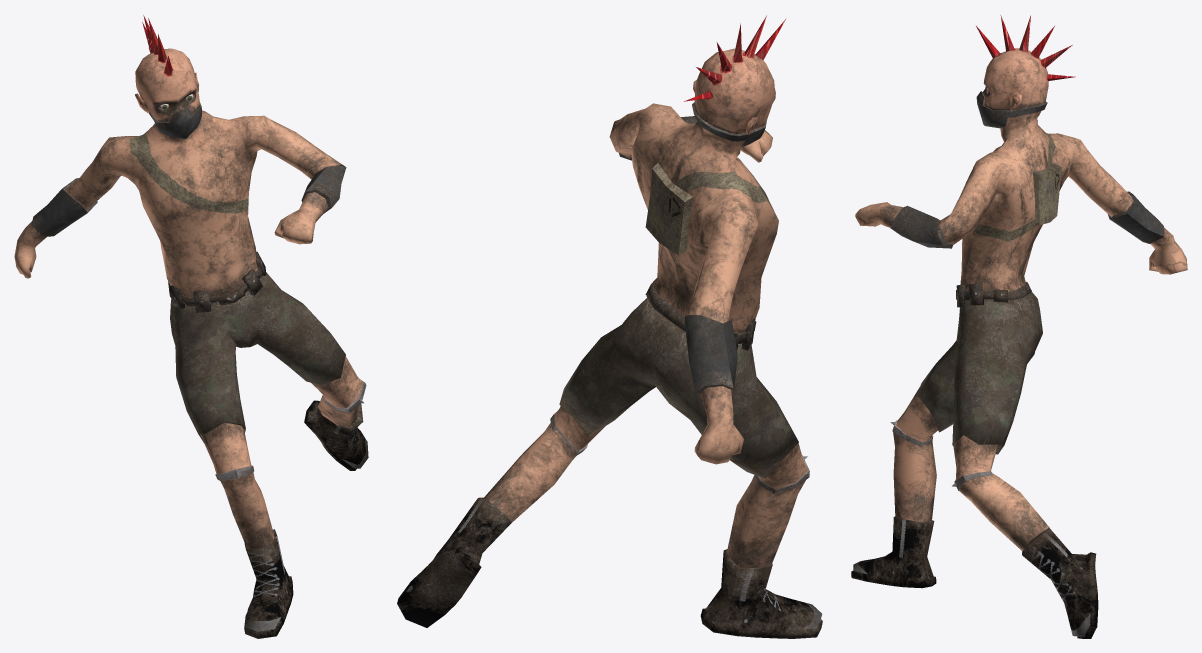
Rendered from Anim_ataque_f3_npc2.0027.obj.
3 renders of one model, left to right at view 1: azimuth 30°, elevation 25°; view 2: azimuth 150°, elevation 25°; view 3: azimuth 270°, elevation 25°, orthographic. The views are drawn at different scales.
Visible parts, largest first — view 1: polySurface1; view 2: polySurface1; view 3: polySurface1.
Boxes of the visible parts, x1,y1,x2,y2 form: polySurface1: (14, 15, 368, 638); polySurface1: (397, 15, 822, 638); polySurface1: (851, 15, 1187, 638).
Size of the model in its own units: 5.66 by 9.71 by 5.4.
Materials: 2 (2 with a texture image).
